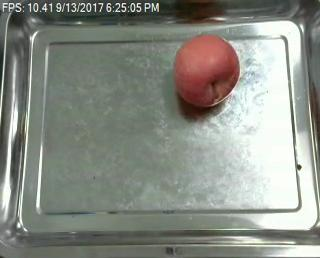apple: (173, 34, 240, 106)
